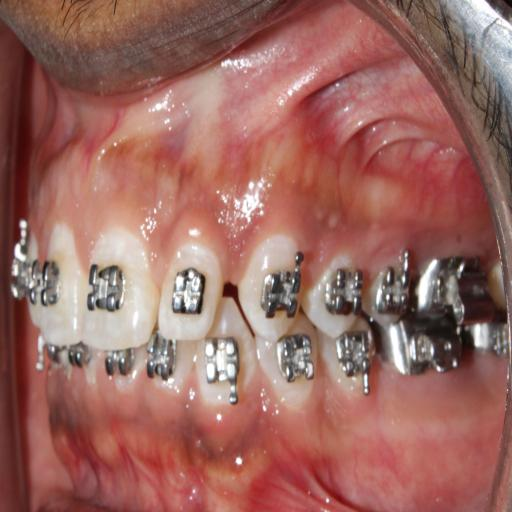correct_brace: (309, 254, 366, 339), (88, 256, 126, 316), (168, 264, 208, 319), (262, 262, 301, 317), (28, 254, 62, 306)
incorrect_brace: (161, 231, 222, 343), (322, 265, 363, 318)
